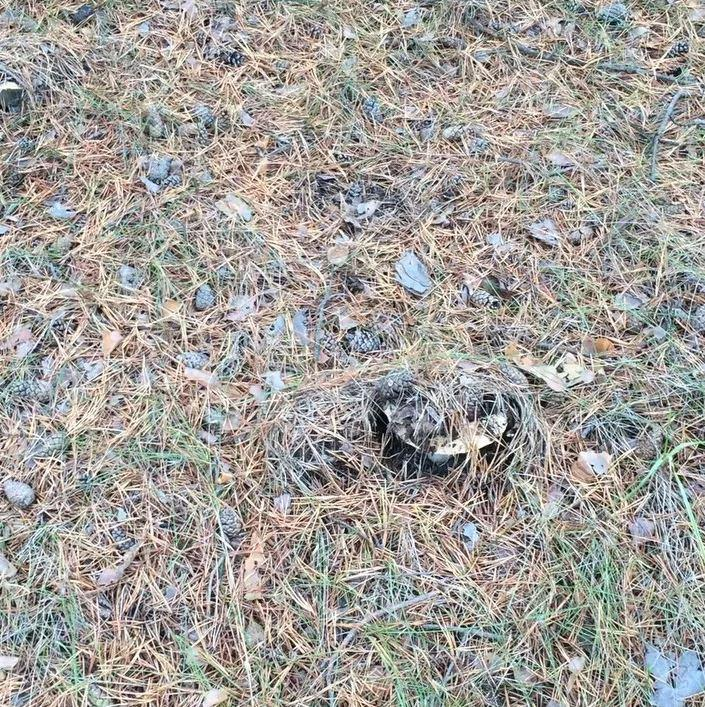pmn: (373, 347, 523, 476)
